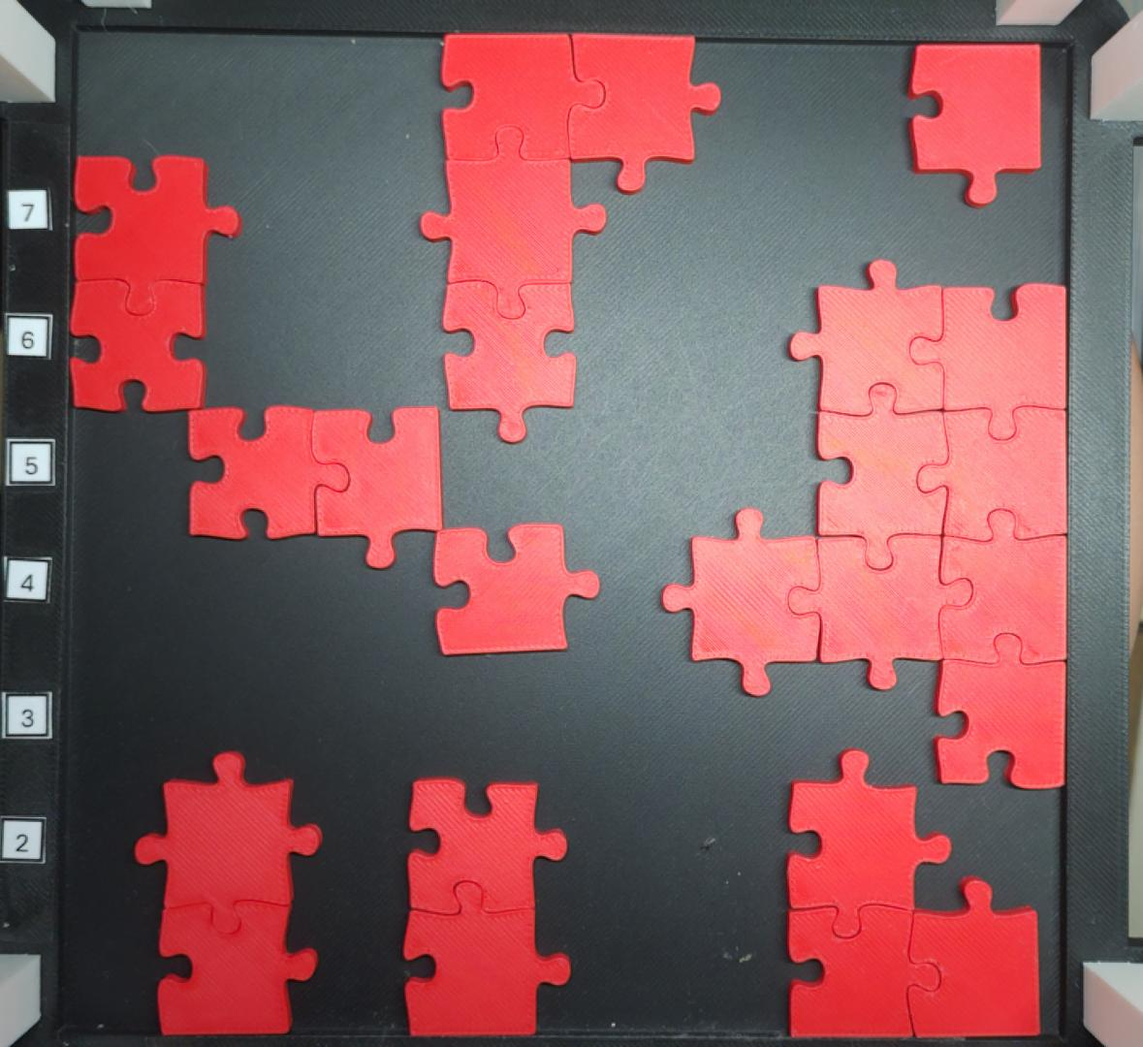p_1: (905, 43, 1044, 206), (433, 525, 598, 658)
p_2: (134, 751, 321, 1034), (65, 152, 241, 416), (403, 775, 570, 1036), (190, 406, 447, 569)
p_3: (787, 748, 1048, 1039)
p_4: (420, 33, 720, 442)
p_m: (662, 261, 1068, 792)
